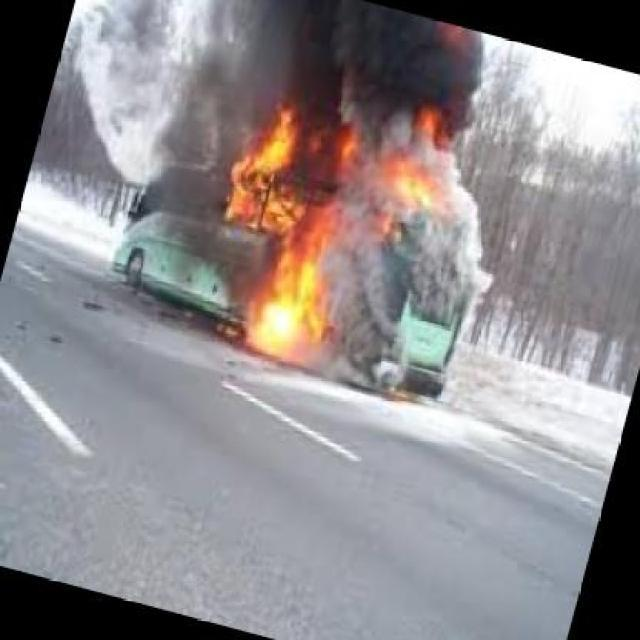Fire: (232, 116, 326, 366), (375, 158, 430, 198)
Smoke: (82, 0, 232, 224), (245, 8, 509, 116), (330, 203, 482, 350)
